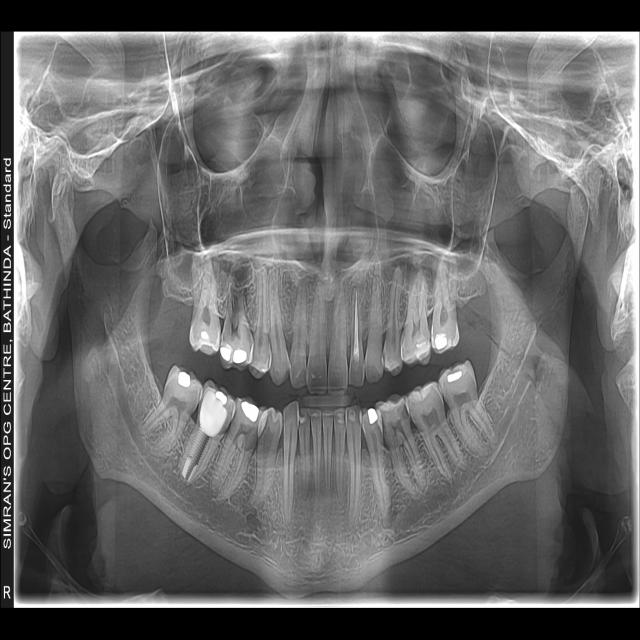Filling: (241, 400, 259, 423), (232, 348, 248, 364), (435, 333, 448, 350), (178, 371, 191, 388), (220, 346, 232, 362), (368, 408, 378, 425), (448, 371, 462, 383)
